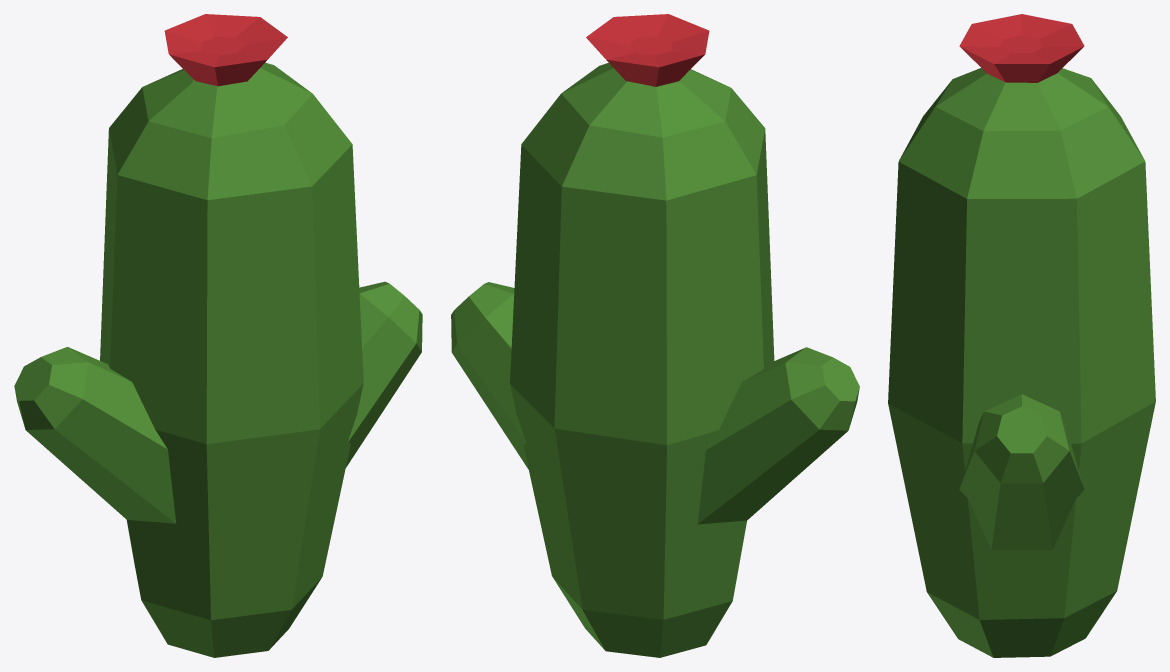
The model's file is nature_cactus-medium.fbx.
3 views of the same model, side by side, from view 1: azimuth 30°, elevation 25°; view 2: azimuth 150°, elevation 25°; view 3: azimuth 270°, elevation 25° (orthographic).
Visible parts, largest first — view 1: nature_cactus_medium; view 2: nature_cactus_medium; view 3: nature_cactus_medium.
Part boxes in pixels (x1=…): nature_cactus_medium: x1=14, y1=14, x2=422, y2=657; nature_cactus_medium: x1=451, y1=14, x2=859, y2=657; nature_cactus_medium: x1=888, y1=14, x2=1155, y2=657.
Bounding box in the file's own units: 141 × 200 × 81.85.
